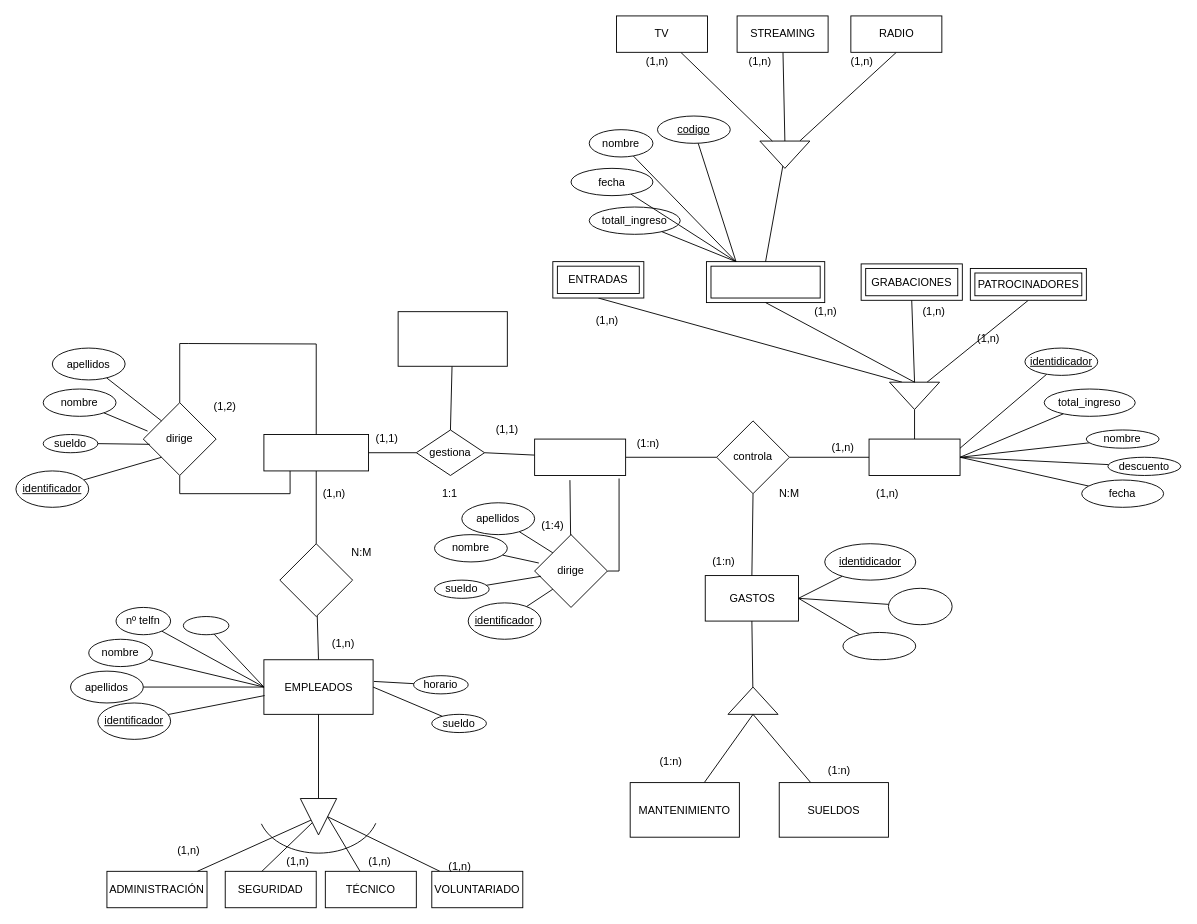
This 1197x924 diagram has some shape labels left out. The centre of each missing label's shape, as x and y in pixels:
cantidad: the point at 920,606
INGRESOS: the point at 914,456
nif: the point at 205,625
PERSONAL: the point at 316,452
RETRANSMISIONES: the point at 765,282
tipo: the point at 879,646
trabajan: the point at 316,580
ÁRE ADMINISTRATIVA: the point at 452,338
ÁREA FINANCIERA: the point at 580,456
